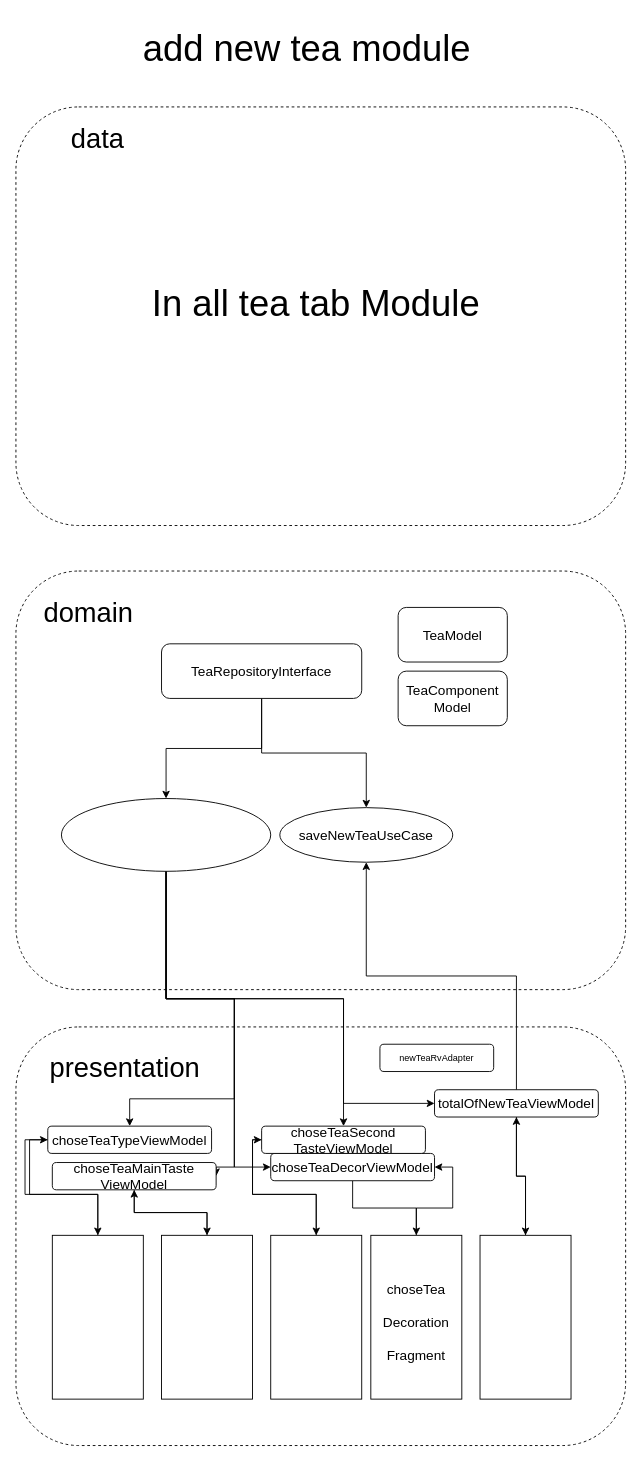
Some shapes in this 642 by 1461 pixel diagram are drawn without their labels. The shapes that lost their labels are listed below. From the top down, each one's centre as x and y in pixels, then its label:
At (166,834): "loadAllTeaComponentsUseCase".
At (97,1316): "choseTeaType Fragment".
At (207,1316): "choseTeaMain TasteFragment".
At (316,1316): "choseTea SecondTaste Fragment".
At (525,1316): "totalOfNewTea Fragment".
